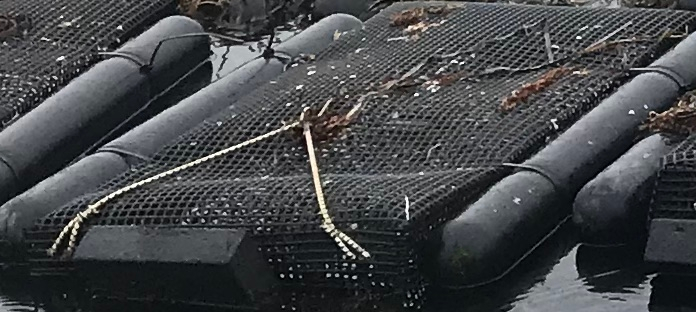bag: (6, 16, 696, 290)
